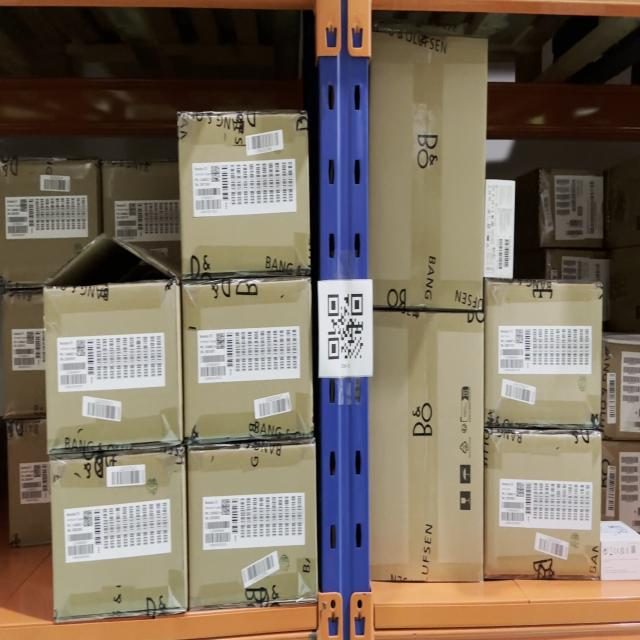box: (372, 27, 484, 314), (371, 312, 484, 580), (51, 450, 188, 616), (187, 446, 319, 609), (182, 110, 312, 274), (43, 289, 178, 443), (184, 283, 314, 441), (485, 277, 601, 433), (488, 431, 597, 576)
